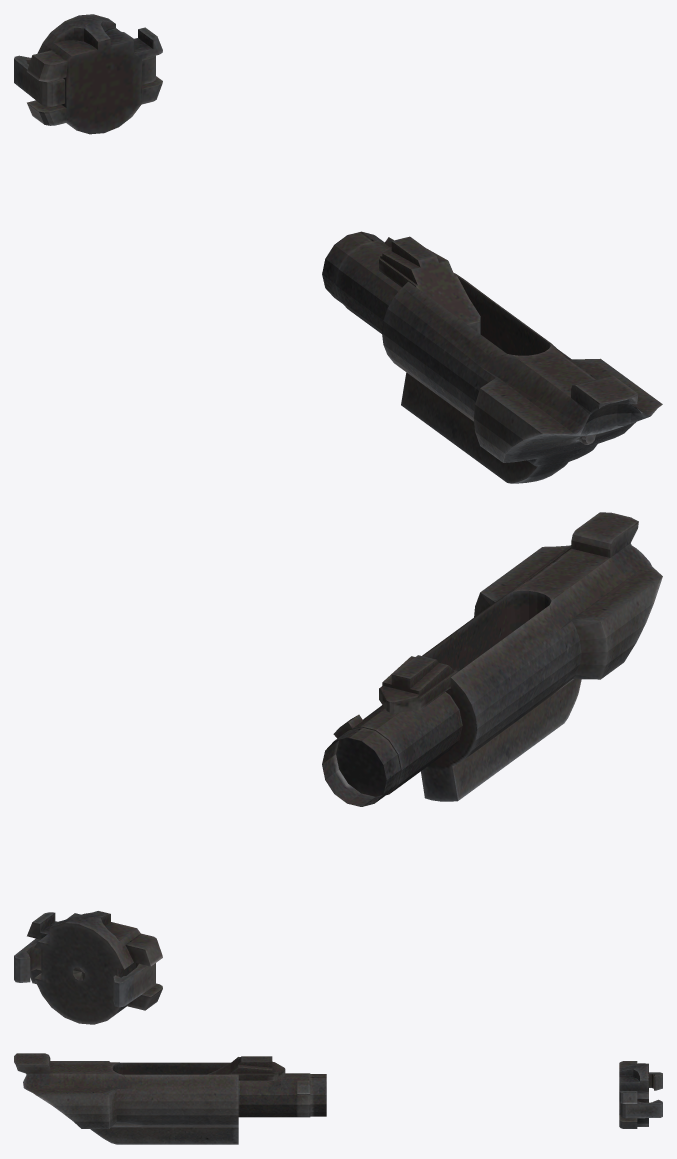
The picture shows the model from 3 angles, top to bottom: view 1: azimuth 30°, elevation 25°; view 2: azimuth 150°, elevation 25°; view 3: azimuth 270°, elevation 25°; orthographic projection. The views are drawn at different scales.
Visible parts, largest first — view 1: TW_5a38e6bac4a2826c6e06d79b_PZ_Import; view 2: TW_5a38e6bac4a2826c6e06d79b_PZ_Import; view 3: TW_5a38e6bac4a2826c6e06d79b_PZ_Import.
Part boxes in pixels (bbox=[...]): TW_5a38e6bac4a2826c6e06d79b_PZ_Import: bbox=[14, 14, 662, 483]; TW_5a38e6bac4a2826c6e06d79b_PZ_Import: bbox=[14, 512, 662, 1024]; TW_5a38e6bac4a2826c6e06d79b_PZ_Import: bbox=[14, 1053, 662, 1144].
Size of the model in its own units: 0.0159 by 0.1147 by 0.0165.
1 material, 1 textured.
